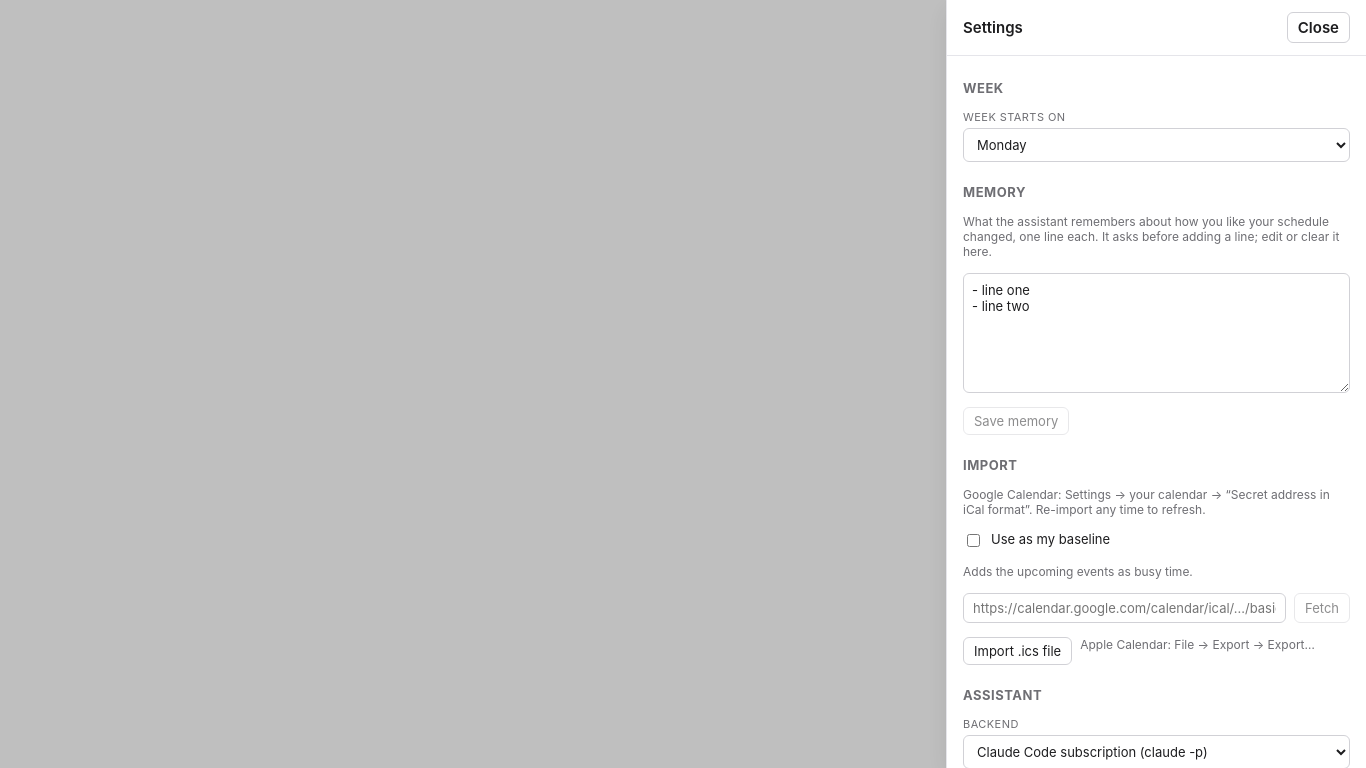
Scenario: SettingsPanel: assistant backend › the Claude Code backend shows only the alias field; switching to the API key shows the password and model fields
The image size is (1366, 768).
Expected: the dialog "Settings" is shown, [946,0,1365,767]
Select "Anthropic API key (BYOK)" in the dropdown showing "Claude Code subscription (claude -p)" below "Backend" at (1156, 752), box [963,735,1350,767]
(page scrolled)
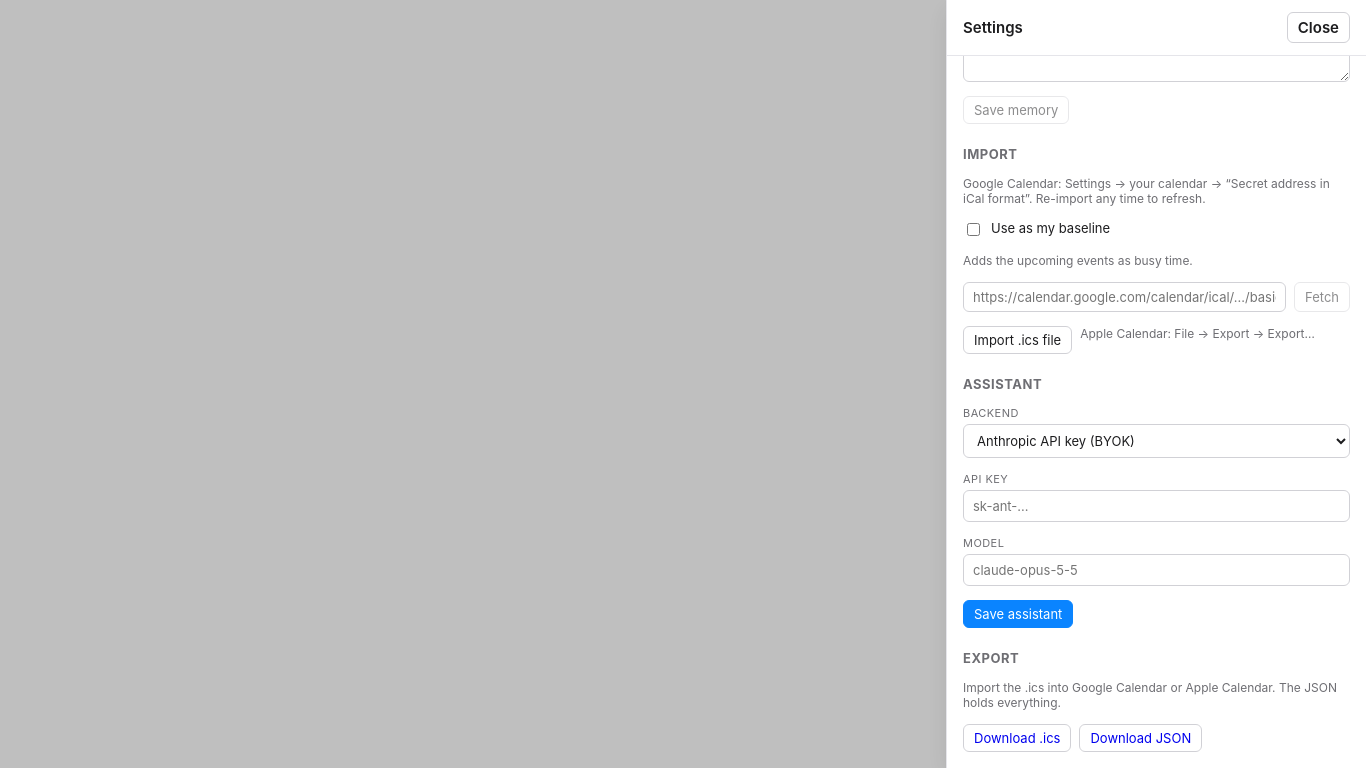
Result: the field with placeholder "claude-opus-5-5" is shown at [963,554,1350,586]
